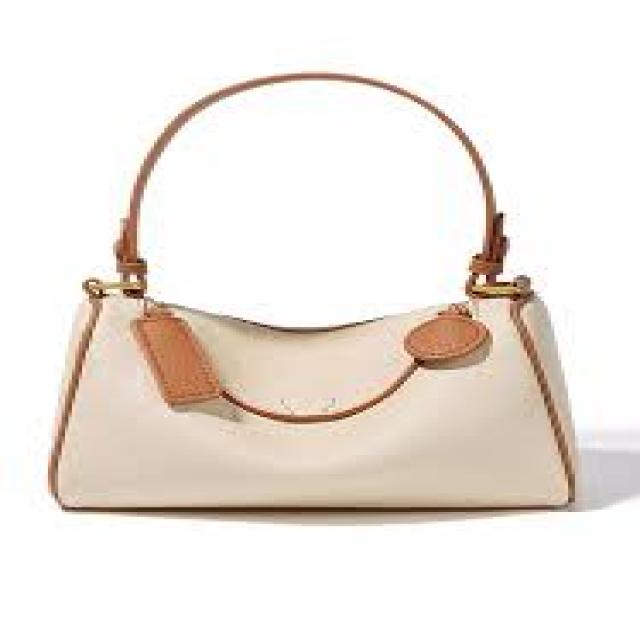handbag: (44, 68, 578, 510)
